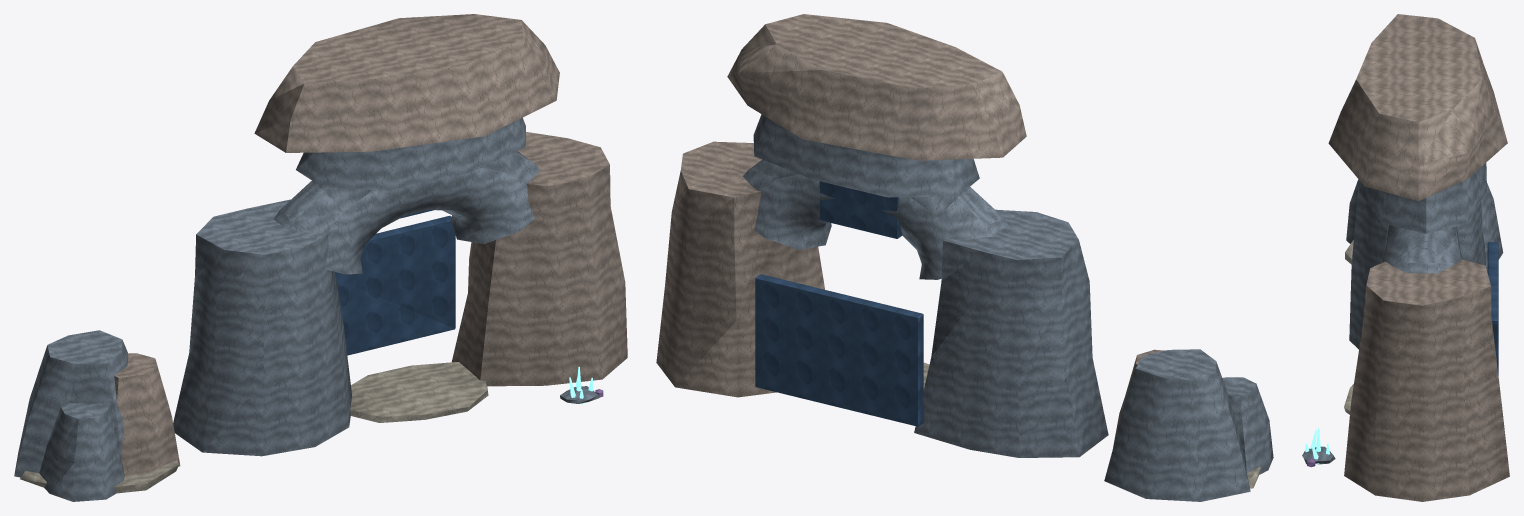
The picture shows the model from 3 angles, left to right: view 1: azimuth 30°, elevation 25°; view 2: azimuth 150°, elevation 25°; view 3: azimuth 270°, elevation 25°; orthographic projection. The views are drawn at different scales.
Visible parts, largest first — view 1: DL015_CaveEntranceKit_stone_blue, DL015_CaveEntranceKit_stone_warm, DL015_CaveEntranceKit_shadow_blue, DL015_CaveEntranceKit_sediment; view 2: DL015_CaveEntranceKit_stone_blue, DL015_CaveEntranceKit_stone_warm, DL015_CaveEntranceKit_shadow_blue; view 3: DL015_CaveEntranceKit_stone_warm, DL015_CaveEntranceKit_stone_blue, DL015_CaveEntranceKit_shadow_blue, DL015_CaveEntranceKit_emissive_teal, DL015_CaveEntranceKit_sediment.
Part boxes in pixels (<box>): DL015_CaveEntranceKit_stone_blue: <box>14,117,599,501</box>; DL015_CaveEntranceKit_stone_warm: <box>114,14,627,475</box>; DL015_CaveEntranceKit_shadow_blue: <box>335,209,455,355</box>; DL015_CaveEntranceKit_sediment: <box>20,362,488,493</box>; DL015_CaveEntranceKit_stone_blue: <box>743,114,1273,501</box>; DL015_CaveEntranceKit_stone_warm: <box>656,14,1164,447</box>; DL015_CaveEntranceKit_shadow_blue: <box>755,181,923,426</box>; DL015_CaveEntranceKit_stone_warm: <box>1328,14,1509,501</box>; DL015_CaveEntranceKit_stone_blue: <box>1302,163,1503,464</box>; DL015_CaveEntranceKit_shadow_blue: <box>1487,242,1498,375</box>; DL015_CaveEntranceKit_emissive_teal: <box>1305,428,1329,464</box>; DL015_CaveEntranceKit_sediment: <box>1344,239,1353,414</box>.
Bounding box in the file's own units: 18.04 × 10 × 5.6.
Materials: 6 (5 with a texture image).
